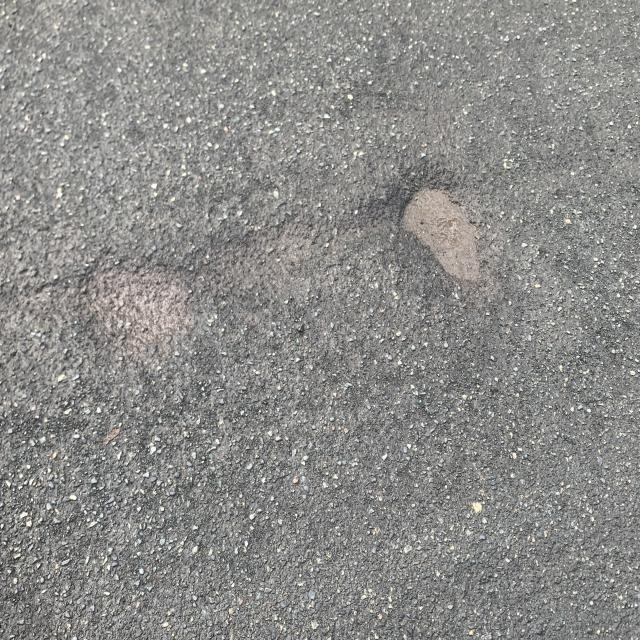pothole: (360, 134, 538, 314)
